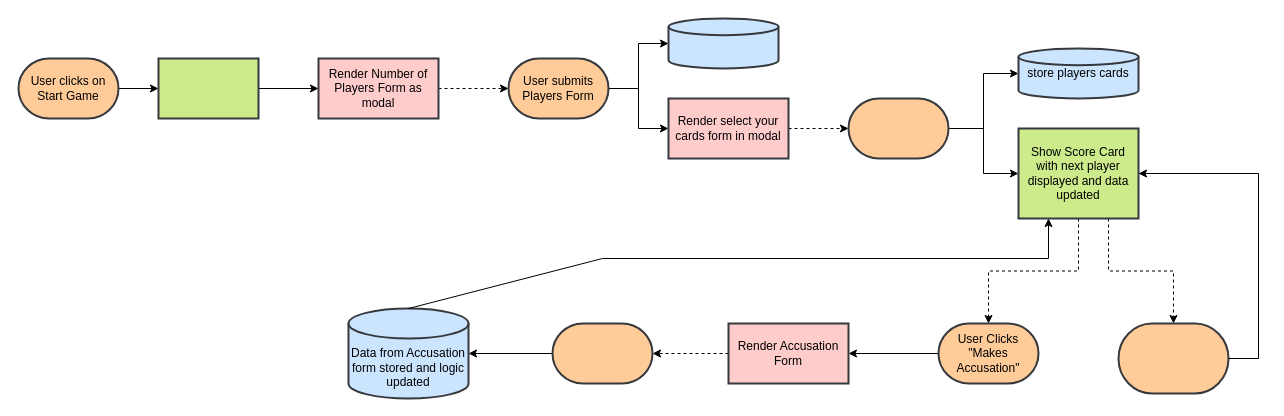
Image size: 1284x416. Some labels were removed from this diagram. The shapes that lost their labels are listed below. From the top down, each one's box as (x1, y1, x2, y2) in pixels, then its label:
(667, 17, 779, 69): Store player data
(157, 57, 259, 119): Open Setup Page
(847, 97, 949, 159): User submits cards form
(551, 322, 653, 384): User Submits Accusation Form
(1117, 322, 1229, 394): User Clicks Next Turn (current player moved only)
